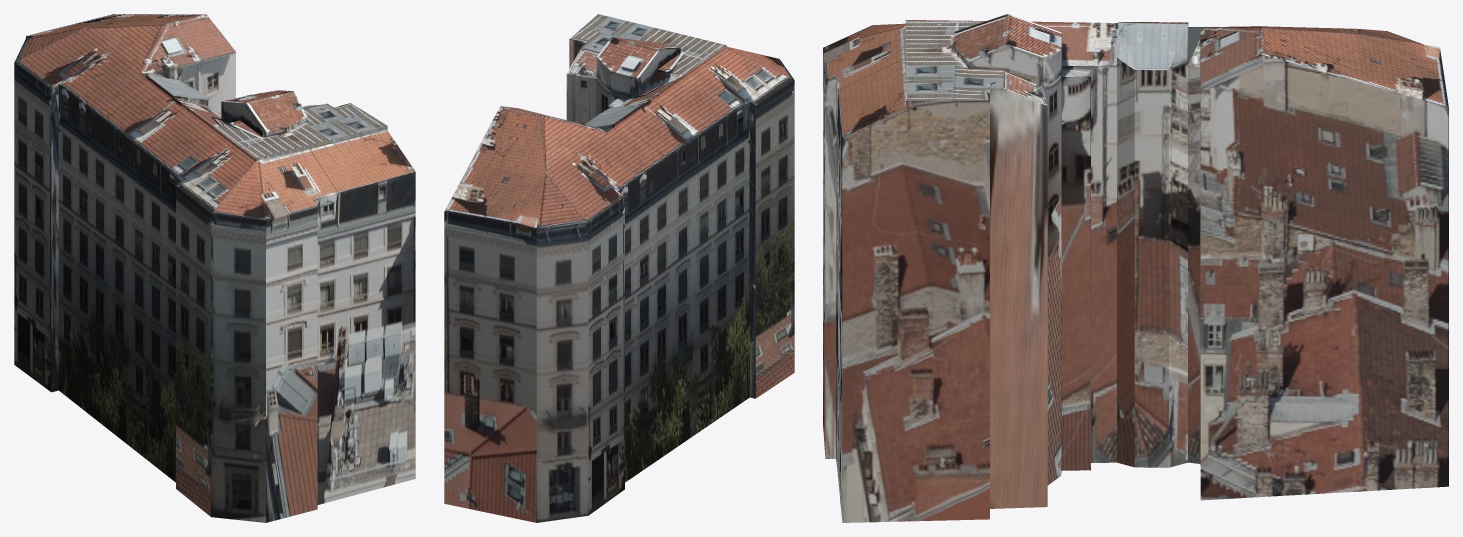
The picture shows the model from 3 angles, left to right: view 1: azimuth 30°, elevation 25°; view 2: azimuth 150°, elevation 25°; view 3: azimuth 270°, elevation 25°; orthographic projection. The views are drawn at different scales.
Parts seen in each view (by area): view 1: Z_UP; view 2: Z_UP; view 3: Z_UP.
Part boxes in pixels (x1,y1,x2,y2): Z_UP: [14, 14, 415, 522]; Z_UP: [444, 14, 794, 522]; Z_UP: [823, 14, 1448, 522].
Size of the model in its own units: 16.42 by 28.87 by 36.86.
2 materials, 1 textured.
